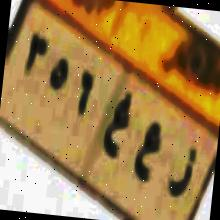3: (23, 27, 48, 82)
5: (47, 49, 71, 104)
ain: (132, 115, 164, 188)
ghayn: (100, 84, 134, 170), (72, 64, 96, 123)
zay: (164, 133, 198, 210)
